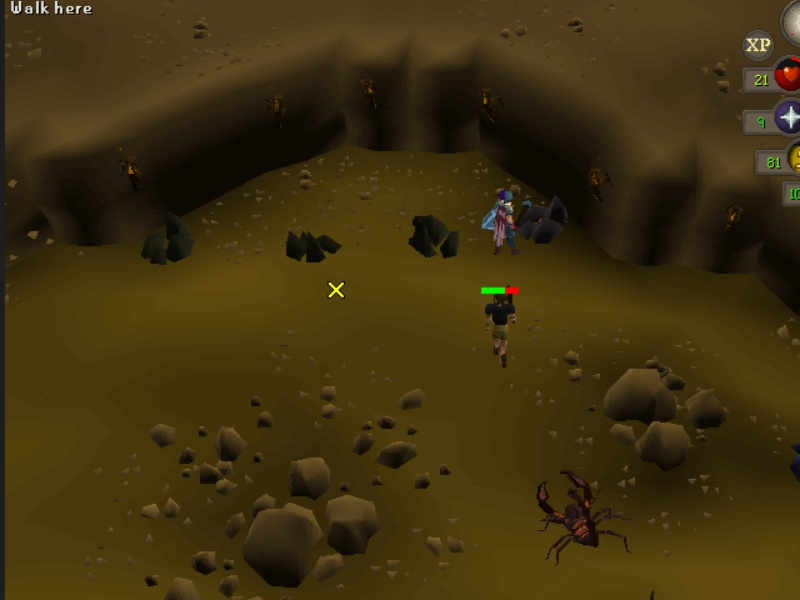coal: (139, 209, 198, 270), (404, 212, 467, 264), (281, 226, 345, 268)
